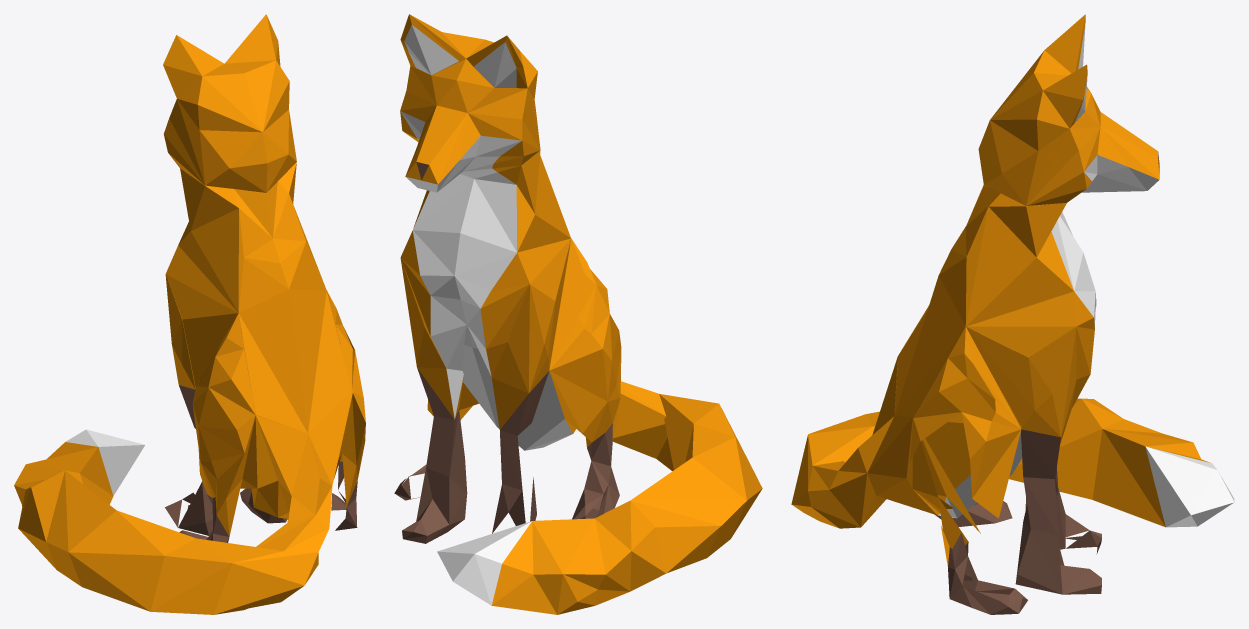
File: fox_sitting.glb
3 views of the same model, side by side, from view 1: azimuth 30°, elevation 25°; view 2: azimuth 150°, elevation 25°; view 3: azimuth 270°, elevation 25° (orthographic). The views are drawn at different scales.
Parts seen in each view (by area): view 1: Node; view 2: Node; view 3: Node.
Boxes of the visible parts, bbox=[...] form: Node: bbox=[14, 14, 365, 614]; Node: bbox=[394, 14, 762, 614]; Node: bbox=[791, 14, 1234, 614].
Bounding box in the file's own units: 2.51 × 3.88 × 2.92.
